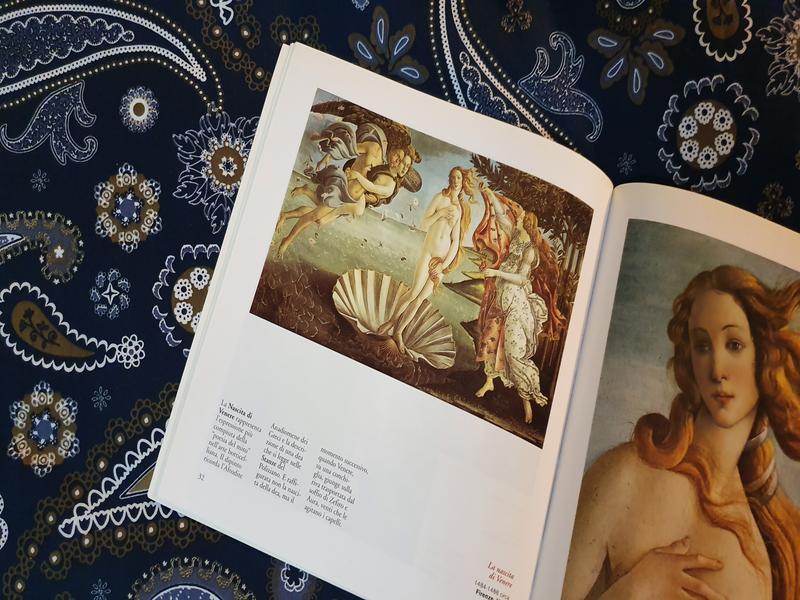Venere: (250, 87, 595, 448)
